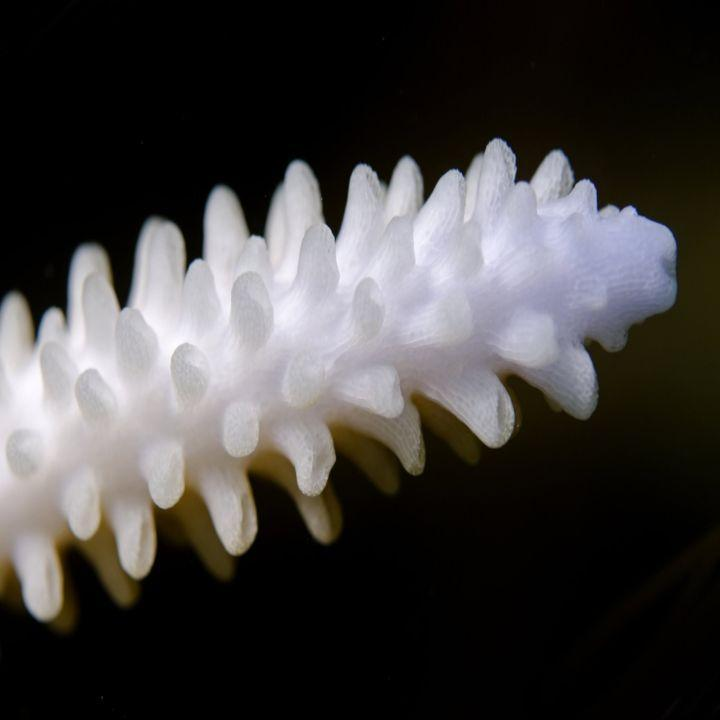Bleached disease: (5, 143, 685, 608)
